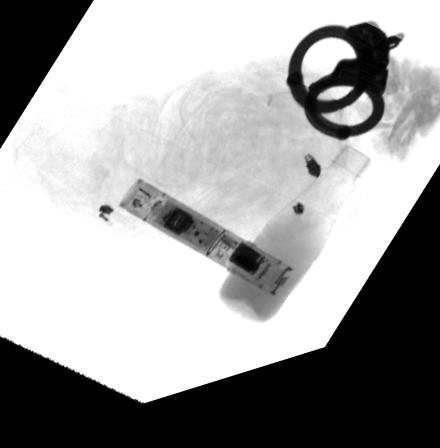Baton: (118, 186, 294, 315)
HandCuffs: (285, 42, 406, 164)
